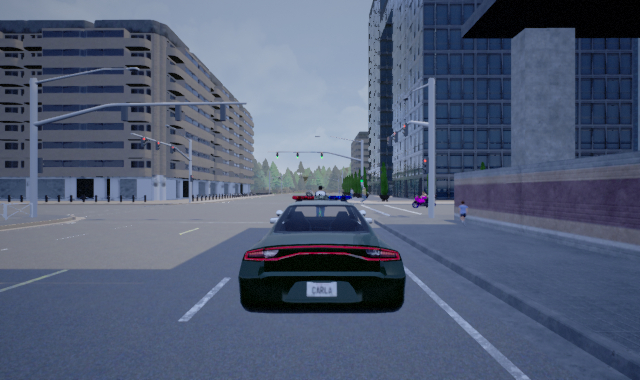bike: (315, 184, 326, 229)
motobike: (412, 190, 437, 208)
pedestrian: (455, 200, 469, 225)
traffic_light: (401, 121, 410, 138), (153, 139, 162, 152), (423, 157, 429, 175), (141, 133, 147, 150), (392, 131, 400, 143), (386, 134, 393, 146), (168, 144, 176, 154), (358, 173, 365, 183), (320, 149, 325, 161), (296, 150, 300, 159), (275, 150, 279, 157)
vehicle: (238, 199, 407, 314)
